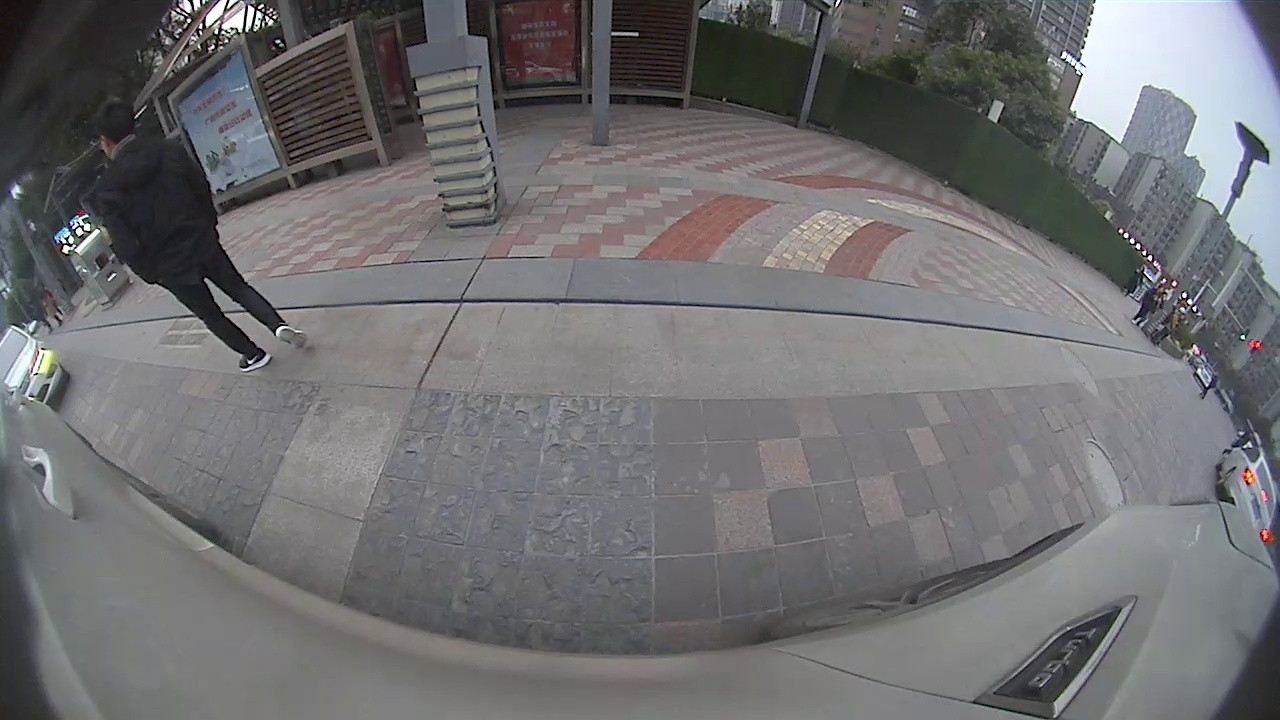car: (1213, 438, 1275, 536), (2, 319, 71, 406)
person: (94, 98, 271, 373)
